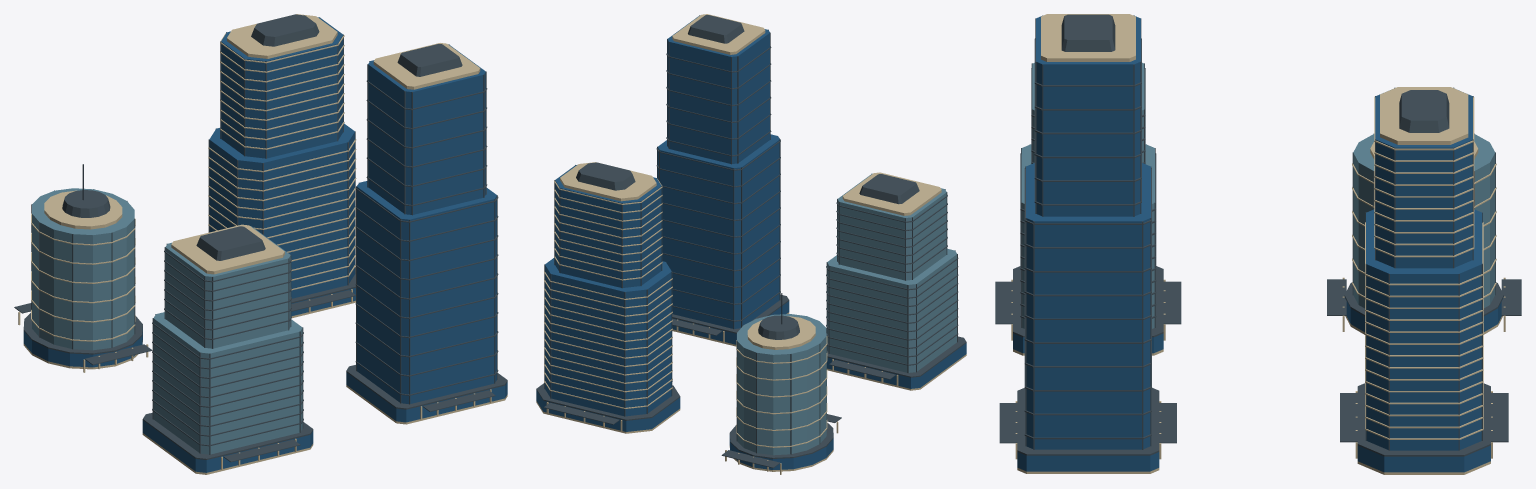
The model's file is CityBlock1.dae.
The picture shows the model from 3 angles, left to right: view 1: azimuth 30°, elevation 25°; view 2: azimuth 150°, elevation 25°; view 3: azimuth 270°, elevation 25°; orthographic projection. The views are drawn at different scales.
Visible parts, largest first — view 1: glass, silverglass, slate, limestone; view 2: glass, silverglass, slate, limestone; view 3: glass, slate, limestone, silverglass.
Boxes of the visible parts, x1=… form: glass: x1=23, y1=17, x2=507, y2=472; silverglass: x1=32, y1=188, x2=302, y2=454; slate: x1=14, y1=14, x2=507, y2=462; limestone: x1=18, y1=14, x2=507, y2=474; glass: x1=536, y1=15, x2=966, y2=469; silverglass: x1=737, y1=173, x2=956, y2=455; slate: x1=536, y1=15, x2=966, y2=468; limestone: x1=536, y1=14, x2=966, y2=474; glass: x1=1013, y1=15, x2=1503, y2=472; slate: x1=995, y1=14, x2=1521, y2=456; limestone: x1=1011, y1=14, x2=1505, y2=474; silverglass: x1=1021, y1=62, x2=1495, y2=328.
Size of the model in its own units: 105 by 106 by 122.
